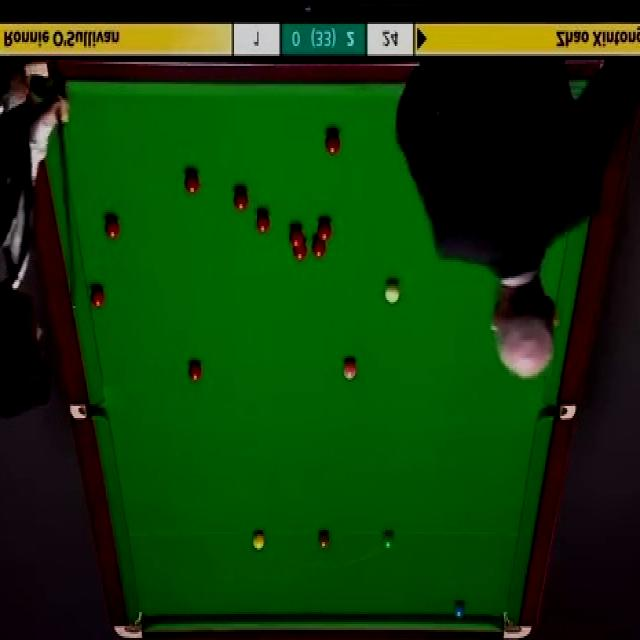pocket: (502, 610, 532, 639), (28, 63, 50, 98), (116, 612, 142, 639), (540, 401, 576, 420), (72, 398, 104, 419)
